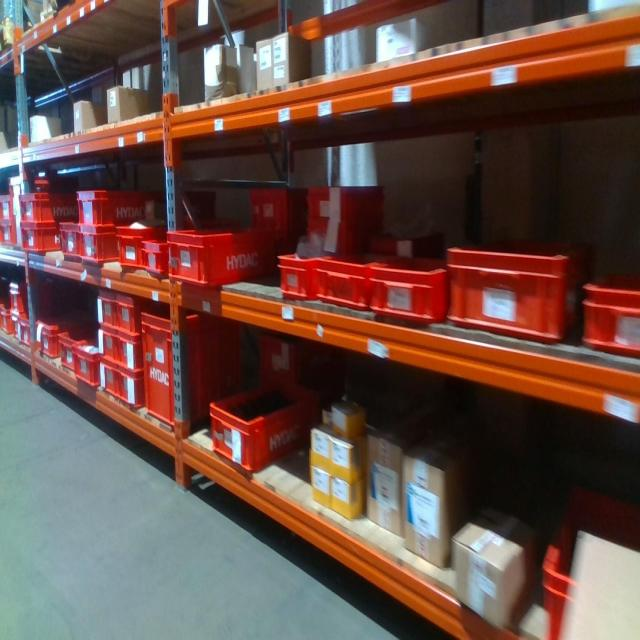pallet: (2, 17, 21, 55)
small_load_carrier: (539, 472, 639, 639), (444, 240, 588, 338), (137, 307, 244, 423), (207, 377, 308, 478), (166, 217, 275, 290), (372, 249, 455, 323), (584, 267, 639, 364), (317, 242, 394, 310), (251, 178, 305, 274), (13, 173, 77, 246), (76, 189, 164, 225), (300, 185, 385, 220), (272, 240, 317, 302), (256, 331, 311, 380), (305, 220, 385, 251), (114, 222, 157, 279), (17, 190, 75, 224), (68, 338, 101, 392), (18, 224, 61, 262), (77, 225, 118, 263), (6, 282, 52, 315), (118, 329, 148, 370), (142, 235, 171, 277), (118, 370, 145, 415), (37, 319, 66, 357), (116, 292, 144, 331), (94, 284, 115, 330), (57, 333, 78, 376), (57, 219, 77, 258), (97, 362, 118, 398), (17, 313, 39, 342), (97, 330, 116, 362), (0, 301, 16, 335), (1, 188, 10, 224), (1, 221, 13, 244)
